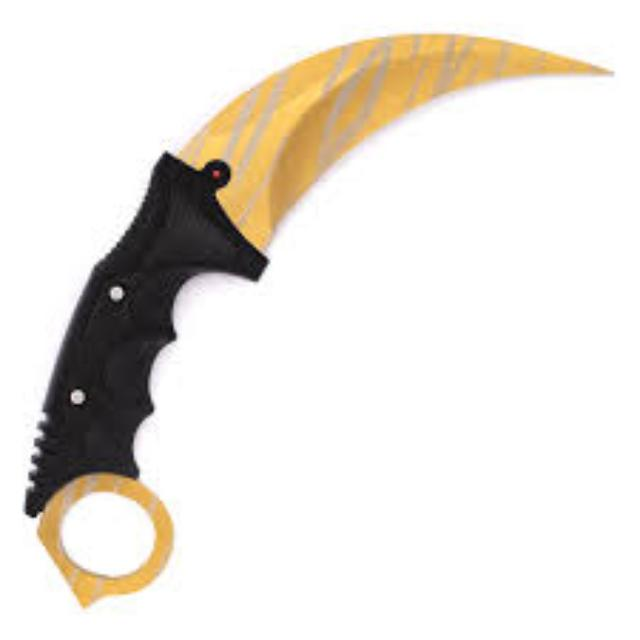knife: (20, 28, 614, 606)
